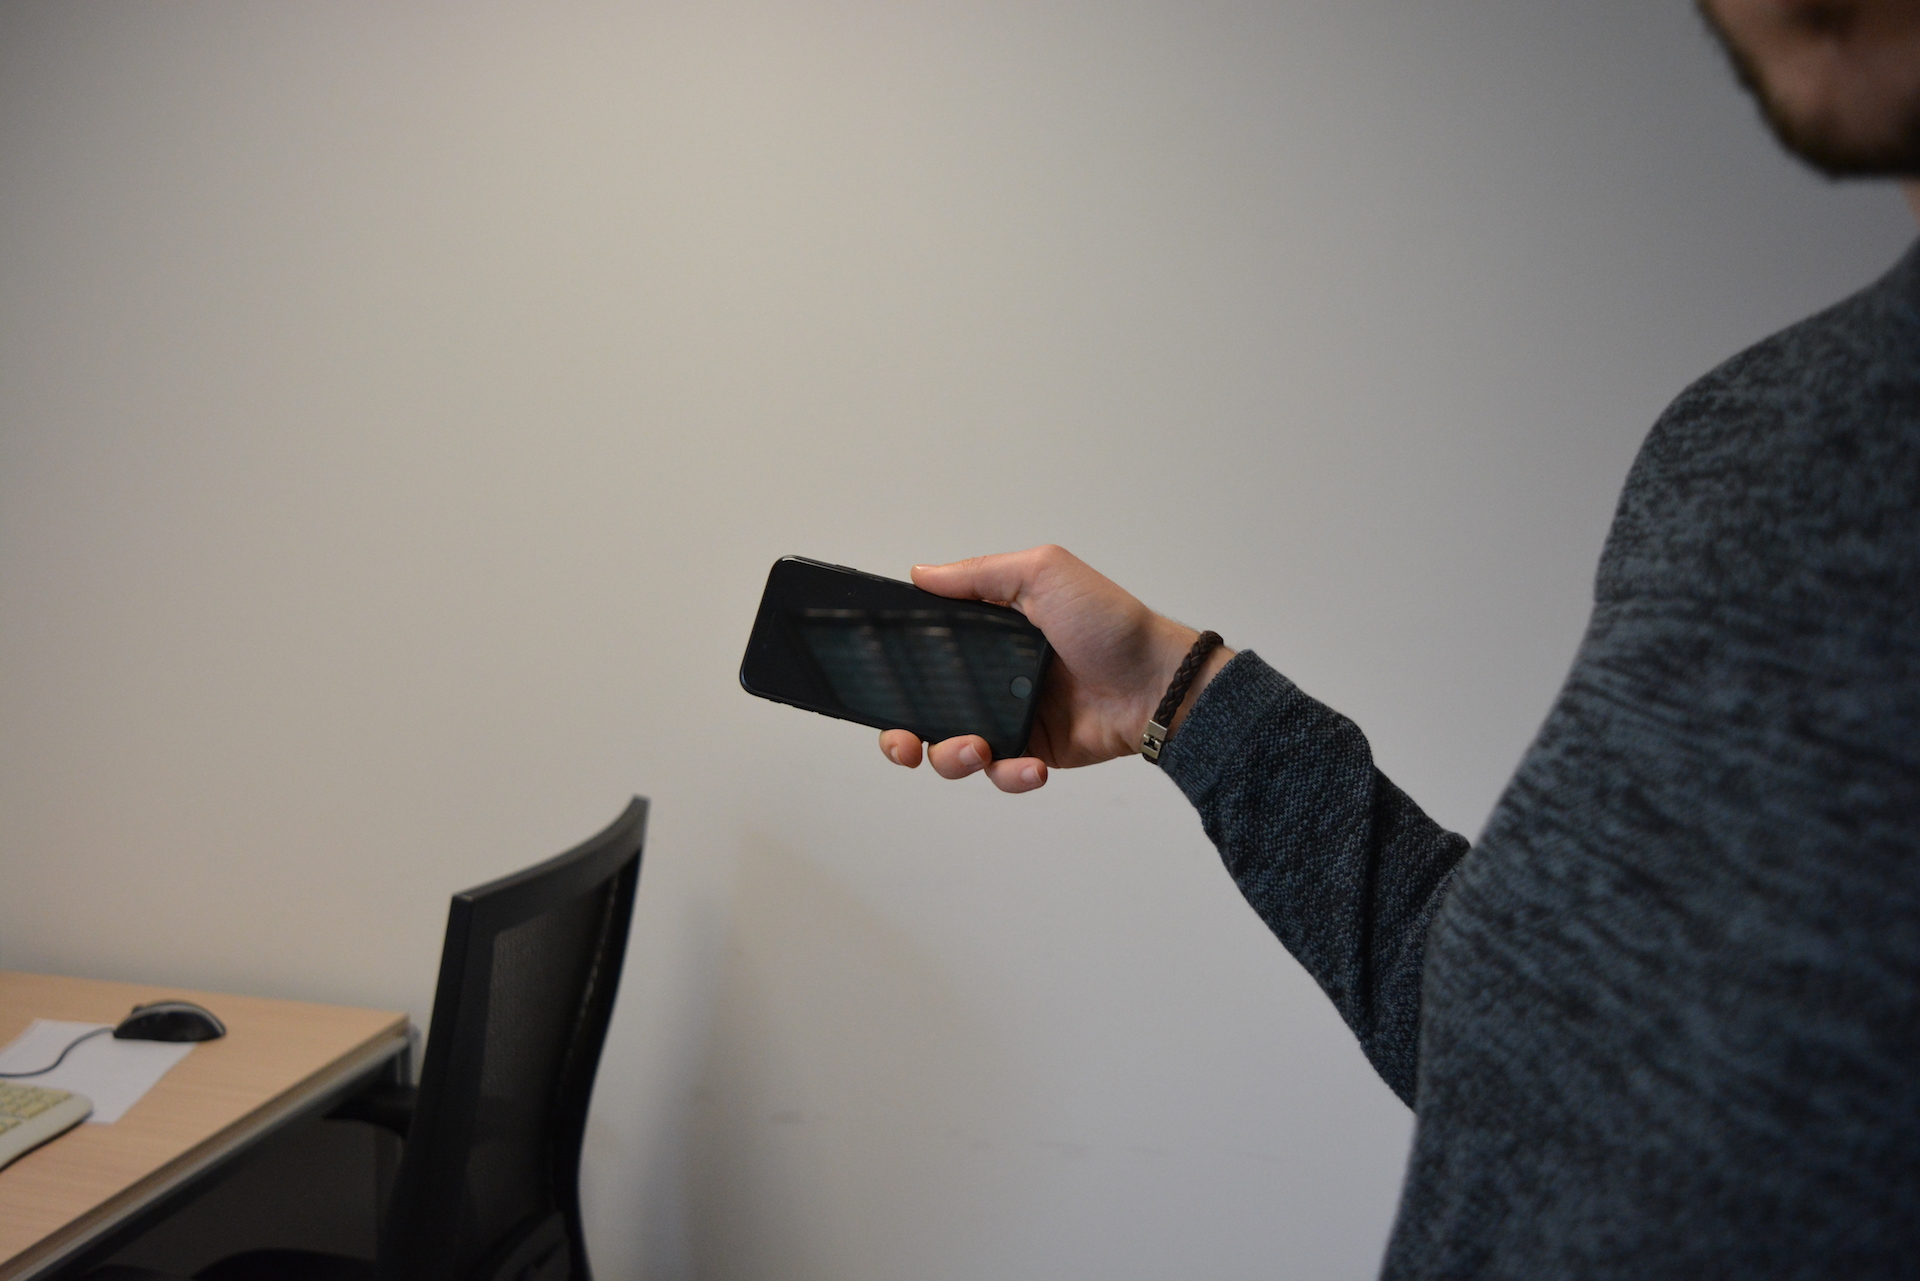smartphone: (738, 553, 1057, 763)
